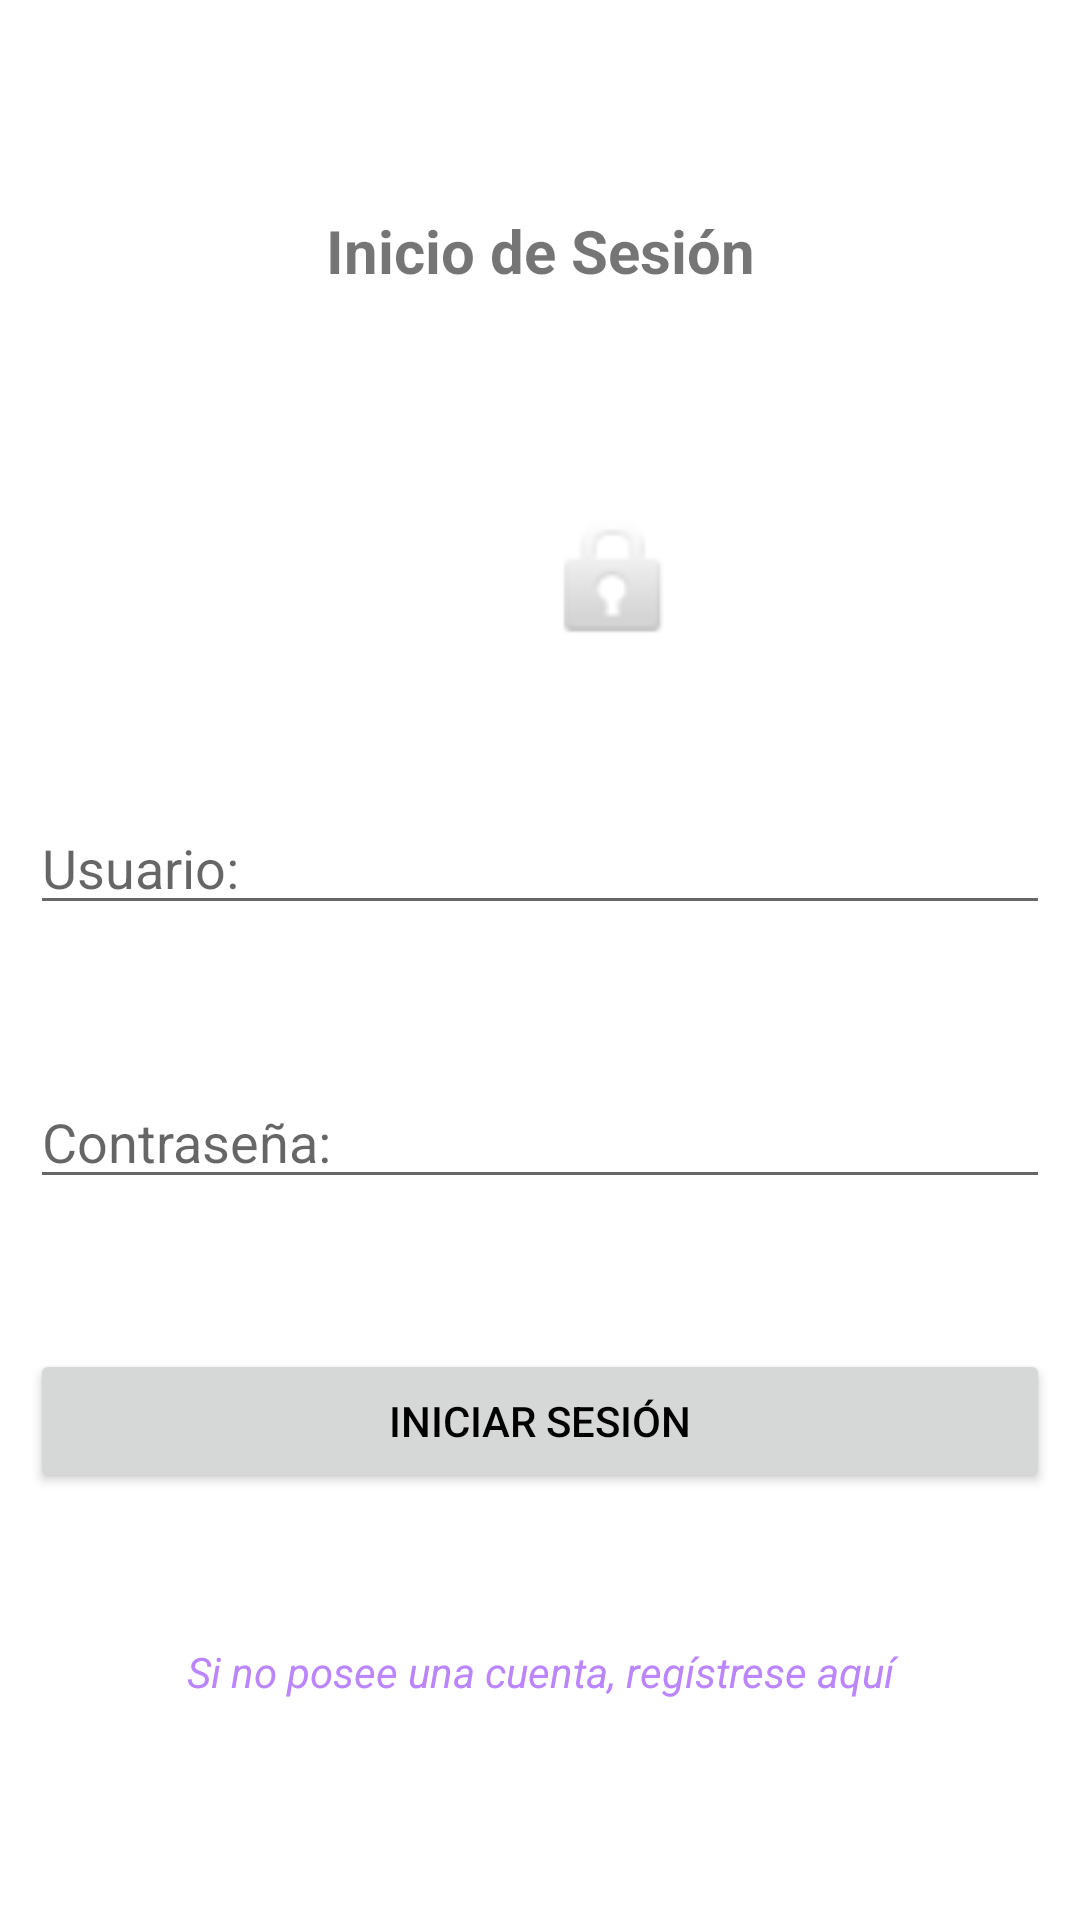

Icon bounding boxes for this 1080px x 1920px phone screenshot, format (x1, y1, x2, y2):
lock idle: (564, 566, 661, 632)
